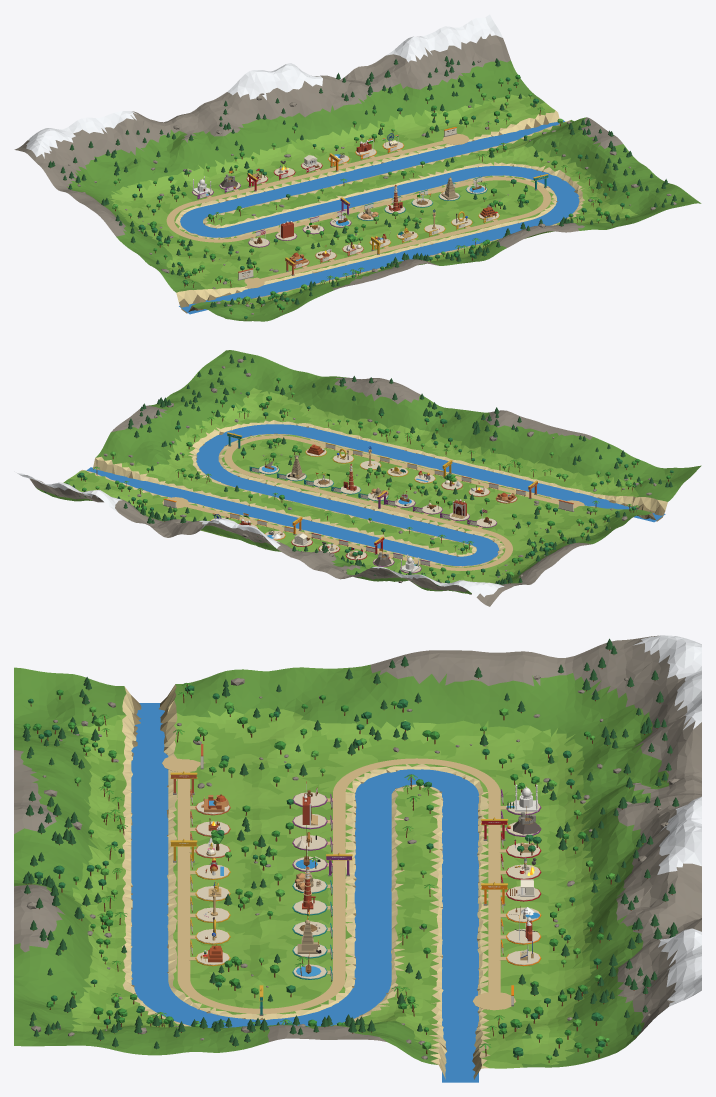
Rendered from india-history.glb.
The picture shows the model from 3 angles, top to bottom: view 1: azimuth 30°, elevation 25°; view 2: azimuth 150°, elevation 25°; view 3: azimuth 270°, elevation 25°; orthographic projection. The views are drawn at different scales.
Visible parts, largest first — view 1: MERGED_IH_hill, MERGED_IH_grass, MERGED_IH_rock, MERGED_IH_water, MERGED_IH_grass2, MERGED_IH_sand, MERGED_IH_snow, MERGED_IH_cypress, MERGED_IH_road, MERGED_IH_plaza, MERGED_IH_leaf1, MERGED_IH_cream (+5 smaller); view 2: MERGED_IH_hill, MERGED_IH_grass, MERGED_IH_water, MERGED_IH_grass2, MERGED_IH_rock, MERGED_IH_sand, MERGED_IH_road, MERGED_IH_cypress, MERGED_IH_plaza, MERGED_IH_leaf1, MERGED_IH_snow, MERGED_IH_cream (+7 smaller); view 3: MERGED_IH_hill, MERGED_IH_grass, MERGED_IH_water, MERGED_IH_grass2, MERGED_IH_rock, MERGED_IH_sand, MERGED_IH_cypress, MERGED_IH_road, MERGED_IH_snow, MERGED_IH_plaza, MERGED_IH_leaf1, MERGED_IH_leaf3 (+8 smaller).
Boxes of the visible parts, x1,y1,x2,y2 form: MERGED_IH_hill: (67,60,701,321); MERGED_IH_grass: (108,94,637,306); MERGED_IH_rock: (14,34,676,314); MERGED_IH_water: (179,120,579,314); MERGED_IH_grass2: (112,97,625,308); MERGED_IH_sand: (175,110,584,310); MERGED_IH_snow: (26,14,502,158); MERGED_IH_cypress: (48,56,684,308); MERGED_IH_road: (166,134,551,288); MERGED_IH_plaza: (193,141,499,265); MERGED_IH_leaf1: (113,74,629,311); MERGED_IH_cream: (197,128,492,279); MERGED_IH_hill: (35,350,701,593); MERGED_IH_grass: (69,388,638,583); MERGED_IH_water: (86,424,665,566); MERGED_IH_grass2: (69,393,638,580); MERGED_IH_rock: (29,359,656,606); MERGED_IH_sand: (80,420,667,567); MERGED_IH_road: (162,435,584,570); MERGED_IH_cypress: (44,354,672,588); MERGED_IH_plaza: (211,448,516,572); MERGED_IH_leaf1: (82,377,670,578); MERGED_IH_snow: (14,471,504,597); MERGED_IH_cream: (164,444,573,565); MERGED_IH_hill: (14,664,669,1067); MERGED_IH_grass: (71,709,596,1068); MERGED_IH_water: (131,703,478,1082); MERGED_IH_grass2: (68,708,600,1064); MERGED_IH_rock: (14,635,701,1059); MERGED_IH_sand: (122,684,490,1079); MERGED_IH_cypress: (22,638,679,1057); MERGED_IH_road: (162,755,515,1013); MERGED_IH_snow: (633,635,701,1006); MERGED_IH_plaza: (196,792,540,978); MERGED_IH_leaf1: (23,689,603,1054); MERGED_IH_leaf3: (28,685,605,1056).
Bounding box in the file's own units: 370 × 43.21 × 284.
